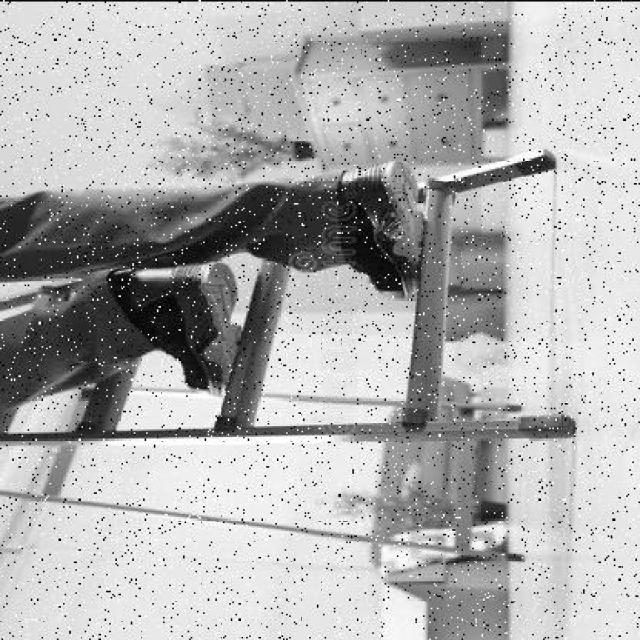shoes: (139, 264, 255, 404), (333, 160, 427, 300)
